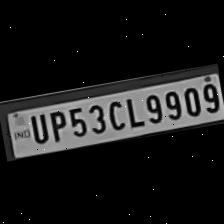0: (177, 82, 201, 119)
3: (83, 99, 108, 136)
5: (62, 102, 90, 139)
9: (138, 89, 164, 125), (158, 86, 182, 122), (197, 79, 221, 115)
C: (102, 95, 127, 132)
L: (120, 92, 144, 129)
P: (44, 106, 69, 144)
U: (24, 110, 49, 146)
